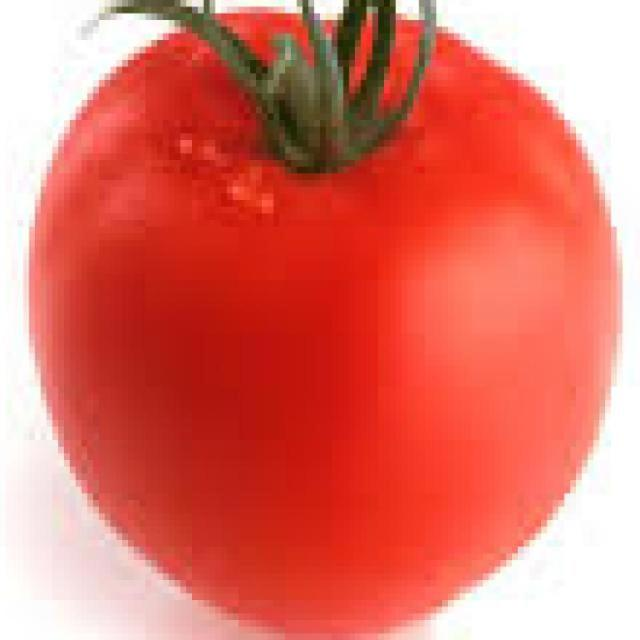Healthy Fruit: (33, 4, 427, 427)
